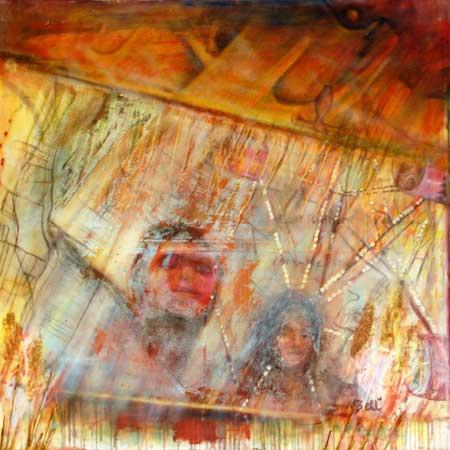person: (120, 220, 225, 349), (251, 284, 325, 375)
